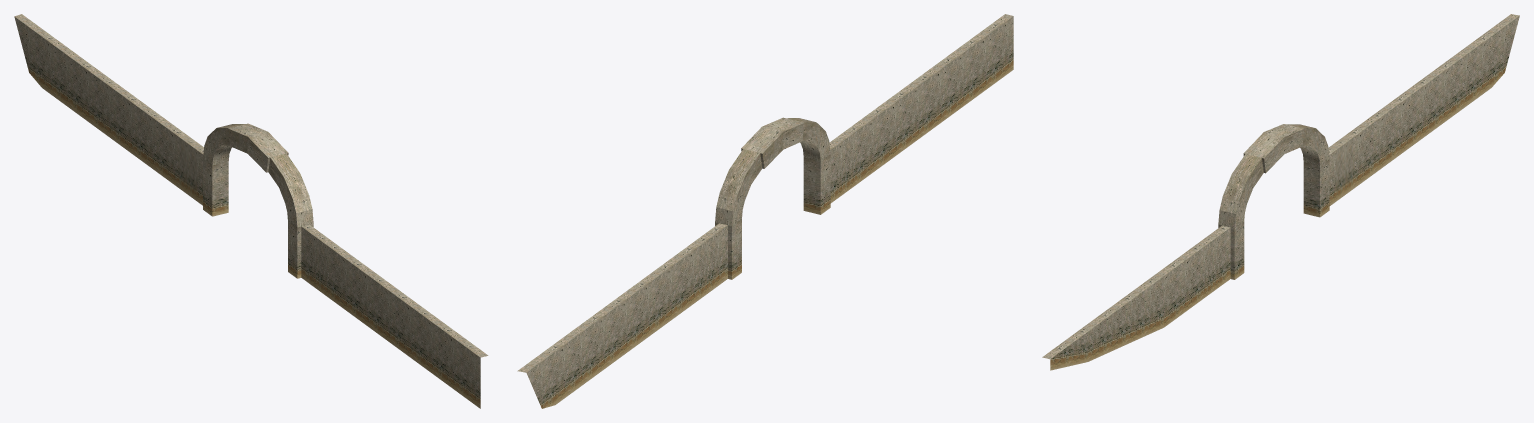
Rendered from Mission8_VillageWall01.glb.
3 views of the same model, side by side, from view 1: azimuth 30°, elevation 25°; view 2: azimuth 150°, elevation 25°; view 3: azimuth 330°, elevation 25° (orthographic). The views are drawn at different scales.
Parts seen in each view (by area): view 1: MISSION8_VILLAGEWALL01; view 2: MISSION8_VILLAGEWALL01; view 3: MISSION8_VILLAGEWALL01.
Boxes of the visible parts, bbox=[...] form: MISSION8_VILLAGEWALL01: bbox=[14, 14, 488, 408]; MISSION8_VILLAGEWALL01: bbox=[517, 14, 1013, 408]; MISSION8_VILLAGEWALL01: bbox=[1042, 14, 1519, 370].
Size of the model in its own units: 1.26 by 6.31 by 49.5.
Materials: 2 (2 with a texture image).
